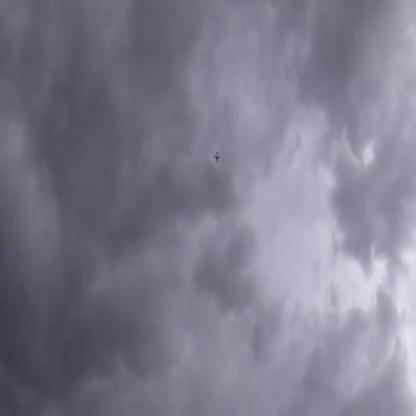CIV_Plane: (214, 151, 222, 162)
